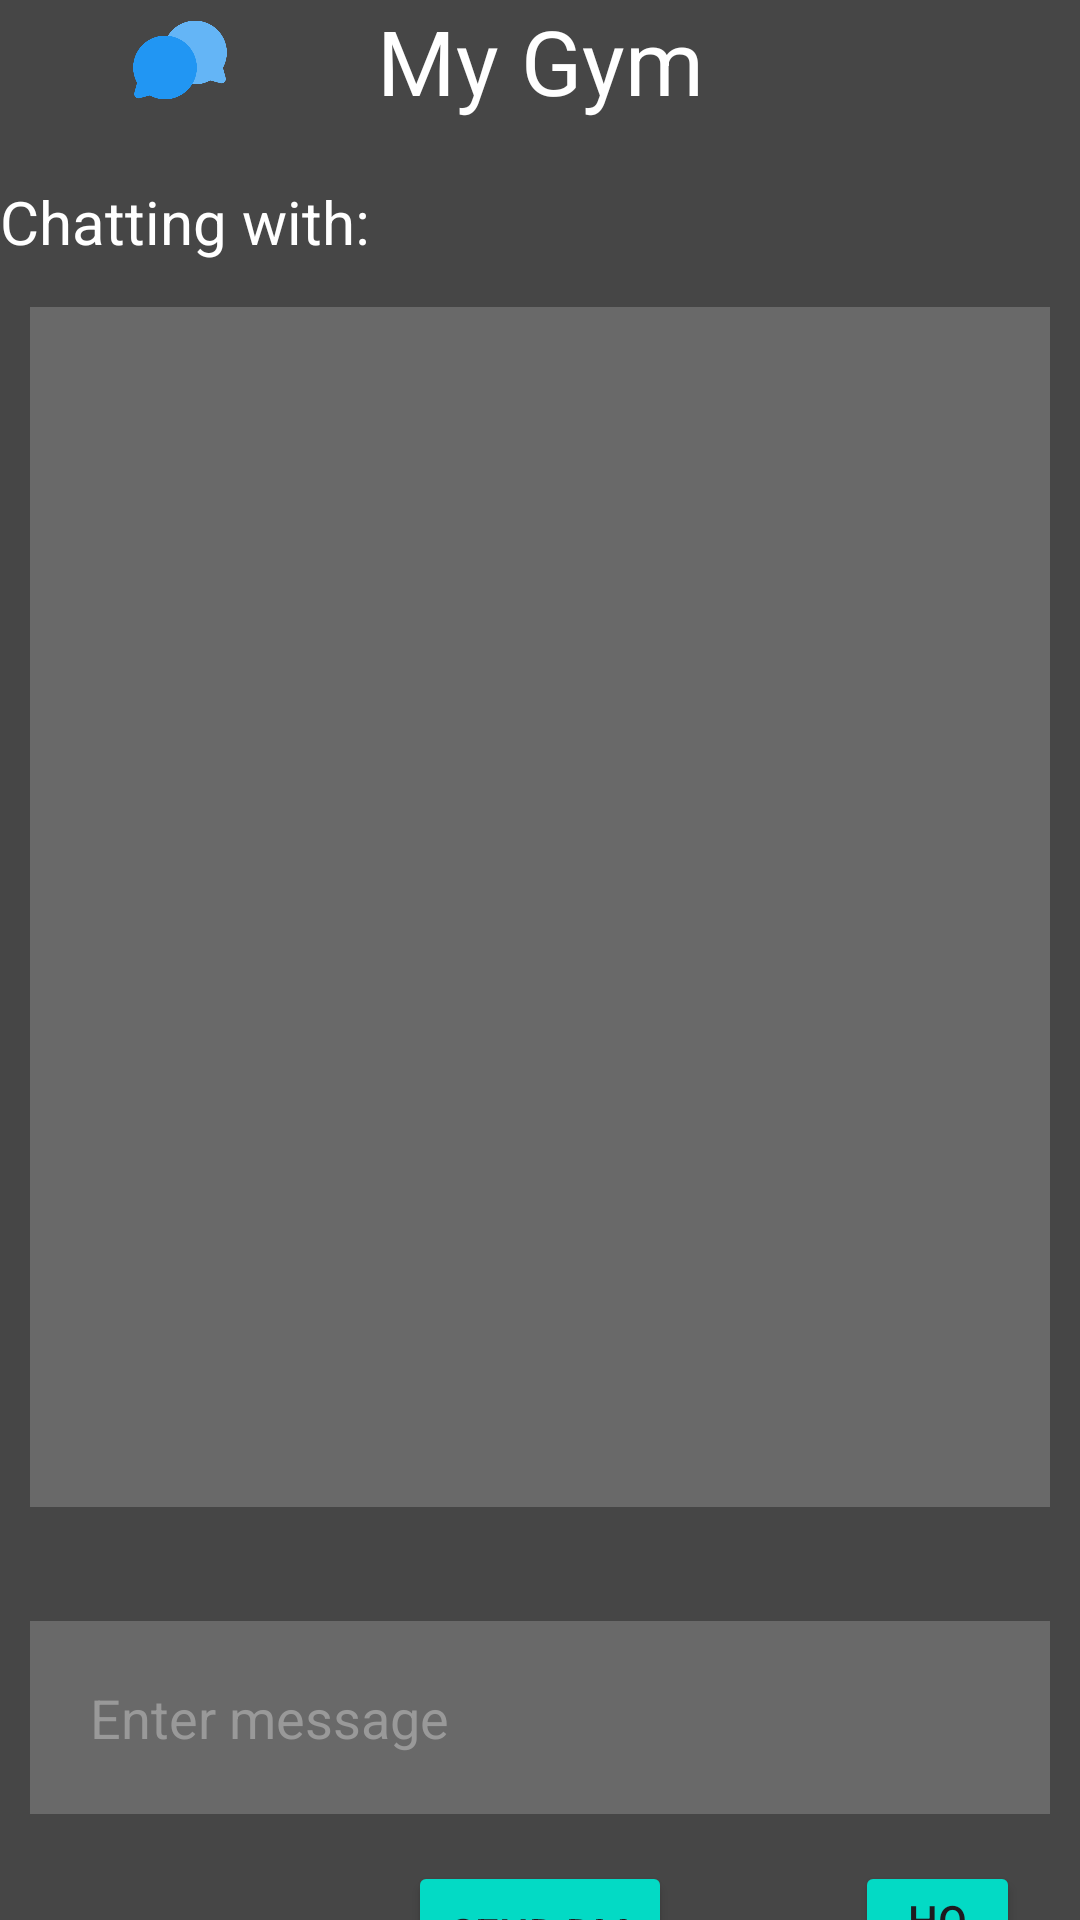

Icon click points for this 1080×1920 phone screenshot, format (x=x, y=y):
group chat: (x=180, y=60)
